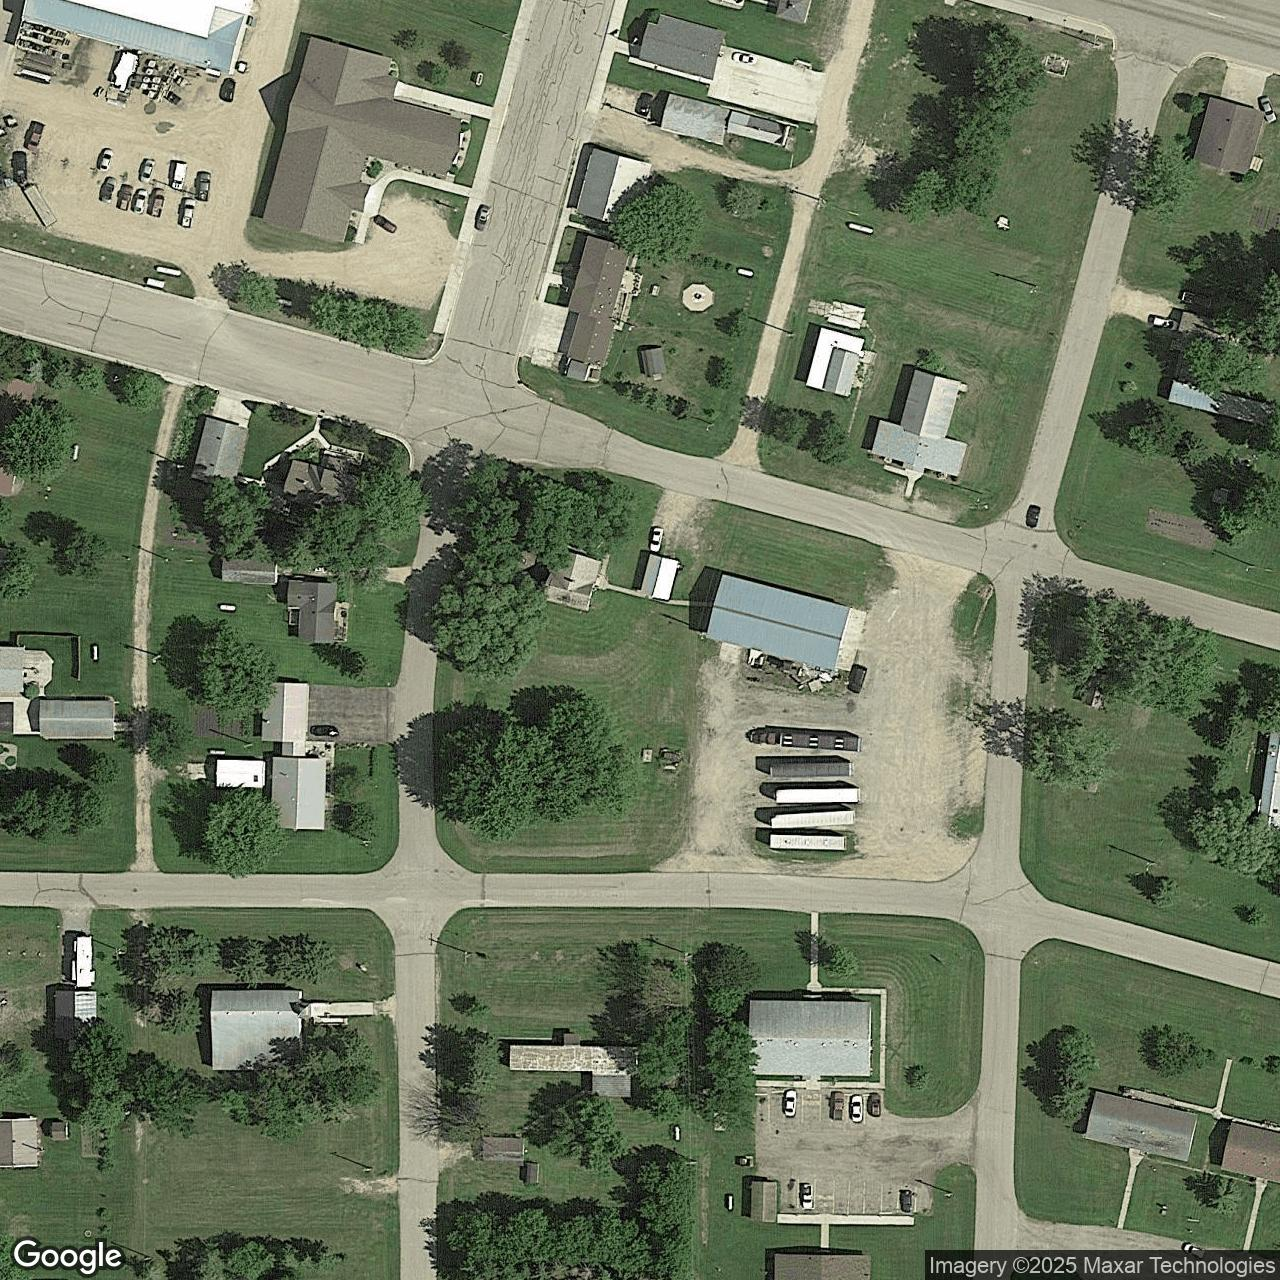Garage: (191, 416, 250, 491), (805, 327, 865, 397), (661, 93, 729, 144), (728, 111, 790, 147), (640, 554, 679, 601), (217, 760, 266, 788), (482, 1137, 524, 1165), (751, 1182, 777, 1221)
House: (263, 36, 461, 243), (707, 574, 851, 672), (871, 369, 968, 476), (261, 682, 327, 830), (748, 1001, 872, 1076), (567, 236, 631, 366), (1084, 1090, 1198, 1162), (211, 990, 304, 1071), (576, 148, 652, 231), (1192, 96, 1266, 176), (639, 14, 726, 81), (282, 454, 369, 513), (539, 547, 601, 612), (1221, 1122, 1279, 1183), (288, 581, 338, 644), (40, 700, 115, 737), (775, 1254, 871, 1279), (54, 990, 97, 1040), (0, 1118, 39, 1167), (222, 558, 278, 584)
Other: (21, 0, 253, 76), (1, 645, 26, 692)
Propane: (844, 219, 878, 238), (152, 263, 185, 280), (734, 264, 757, 281), (216, 600, 239, 615), (672, 1123, 682, 1144), (90, 642, 101, 663), (206, 747, 227, 757), (72, 442, 81, 464), (726, 1192, 735, 1213)
Trailer: (510, 1034, 640, 1097), (1167, 381, 1275, 428), (73, 935, 96, 987)
